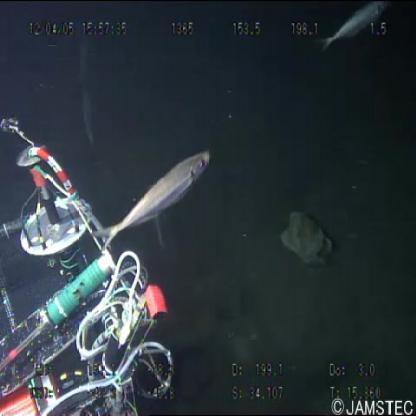Rác: (280, 208, 331, 266)
